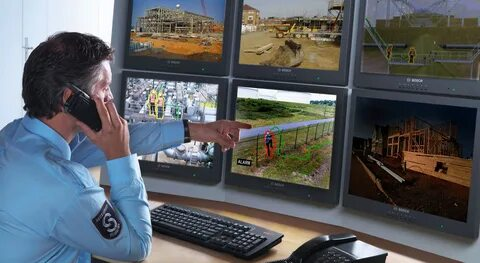awake: (1, 30, 154, 263)
